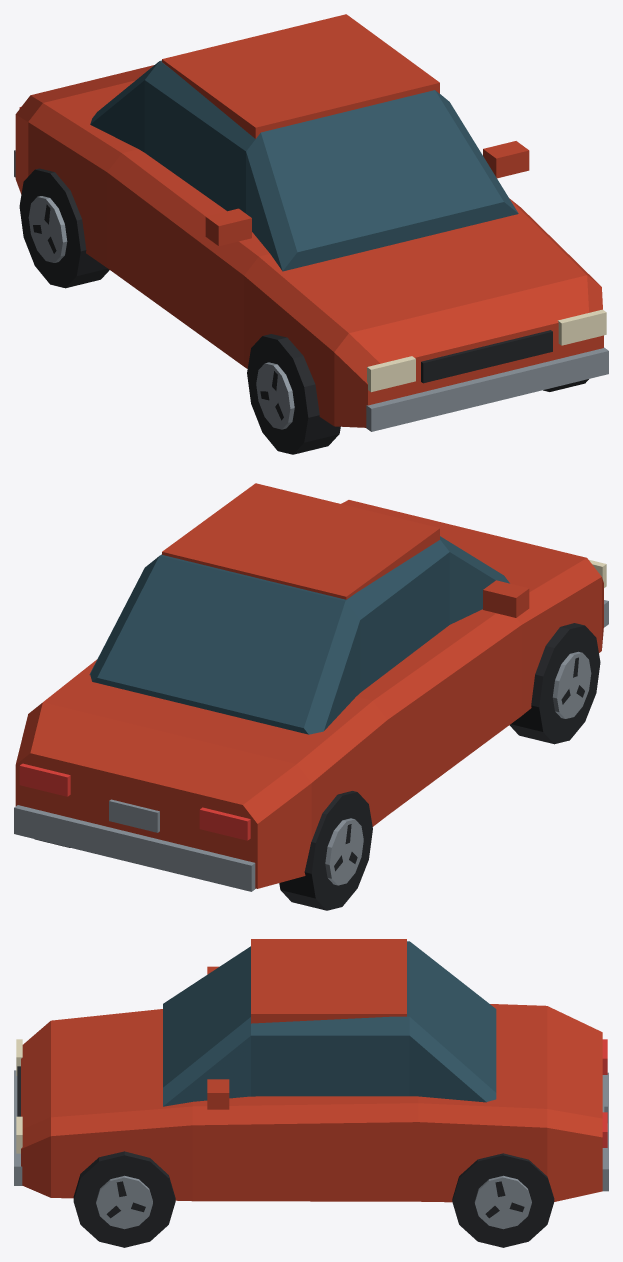
The model's file is hotel_escape_car.glb.
The picture shows the model from 3 angles, top to bottom: view 1: azimuth 30°, elevation 25°; view 2: azimuth 150°, elevation 25°; view 3: azimuth 270°, elevation 25°; orthographic projection. The views are drawn at different scales.
Visible parts, largest first — view 1: Coachwork, Cabin, Roof, Front bumper, Wheel.003, Wheel.002, Grille, Hub.003, Hub.002, Mirror.001, Mirror, Headlamp (+1 smaller); view 2: Coachwork, Cabin, Roof, Rear bumper, Wheel.003, Wheel.002, Hub.002, Hub.003, Mirror.001, Brake lamp, Brake lamp.001, Rear license plate; view 3: Coachwork, Cabin, Roof, Wheel.001, Wheel, Hub, Hub.001, Mirror, Front bumper, Rear bumper.
Boxes of the visible parts, bbox=[...] form: Coachwork: bbox=[15, 65, 603, 427]; Cabin: bbox=[90, 60, 518, 271]; Roof: bbox=[162, 14, 439, 138]; Front bumper: bbox=[366, 347, 608, 431]; Wheel.003: bbox=[247, 334, 340, 454]; Wheel.002: bbox=[19, 168, 109, 288]; Grille: bbox=[421, 330, 552, 383]; Hub.003: bbox=[256, 362, 294, 429]; Hub.002: bbox=[28, 196, 67, 262]; Mirror.001: bbox=[205, 208, 251, 246]; Mirror: bbox=[483, 141, 529, 178]; Headlamp: bbox=[558, 309, 606, 345]; Coachwork: bbox=[15, 500, 603, 888]; Cabin: bbox=[89, 536, 509, 734]; Roof: bbox=[162, 483, 439, 599]; Rear bumper: bbox=[14, 805, 255, 891]; Wheel.003: bbox=[509, 623, 600, 744]; Wheel.002: bbox=[279, 791, 372, 910]; Hub.002: bbox=[325, 818, 363, 885]; Hub.003: bbox=[552, 651, 591, 718]; Mirror.001: bbox=[483, 580, 529, 617]; Brake lamp: bbox=[19, 763, 70, 796]; Brake lamp.001: bbox=[199, 807, 250, 840]; Rear license plate: bbox=[109, 799, 159, 832]; Coachwork: bbox=[21, 1004, 602, 1202]; Cabin: bbox=[163, 941, 496, 1106]; Roof: bbox=[251, 939, 406, 1023]; Wheel.001: bbox=[73, 1151, 175, 1247]; Wheel: bbox=[452, 1153, 554, 1247]; Hub: bbox=[474, 1175, 531, 1229]; Hub.001: bbox=[96, 1175, 152, 1229]; Mirror: bbox=[207, 1079, 229, 1109]; Front bumper: bbox=[14, 1070, 22, 1185]; Rear bumper: bbox=[602, 1072, 608, 1191].
Size of the model in its own units: 2.11 by 1.65 by 4.19.
